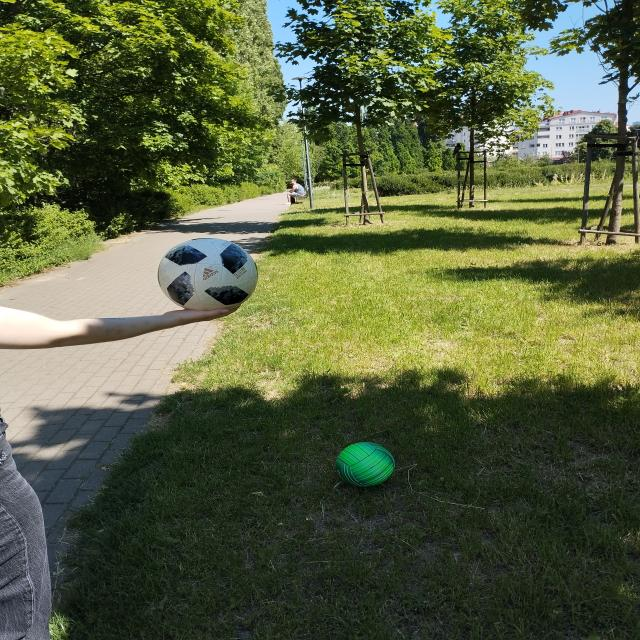nozna: (157, 238, 258, 311)
zielona: (335, 442, 395, 487)
